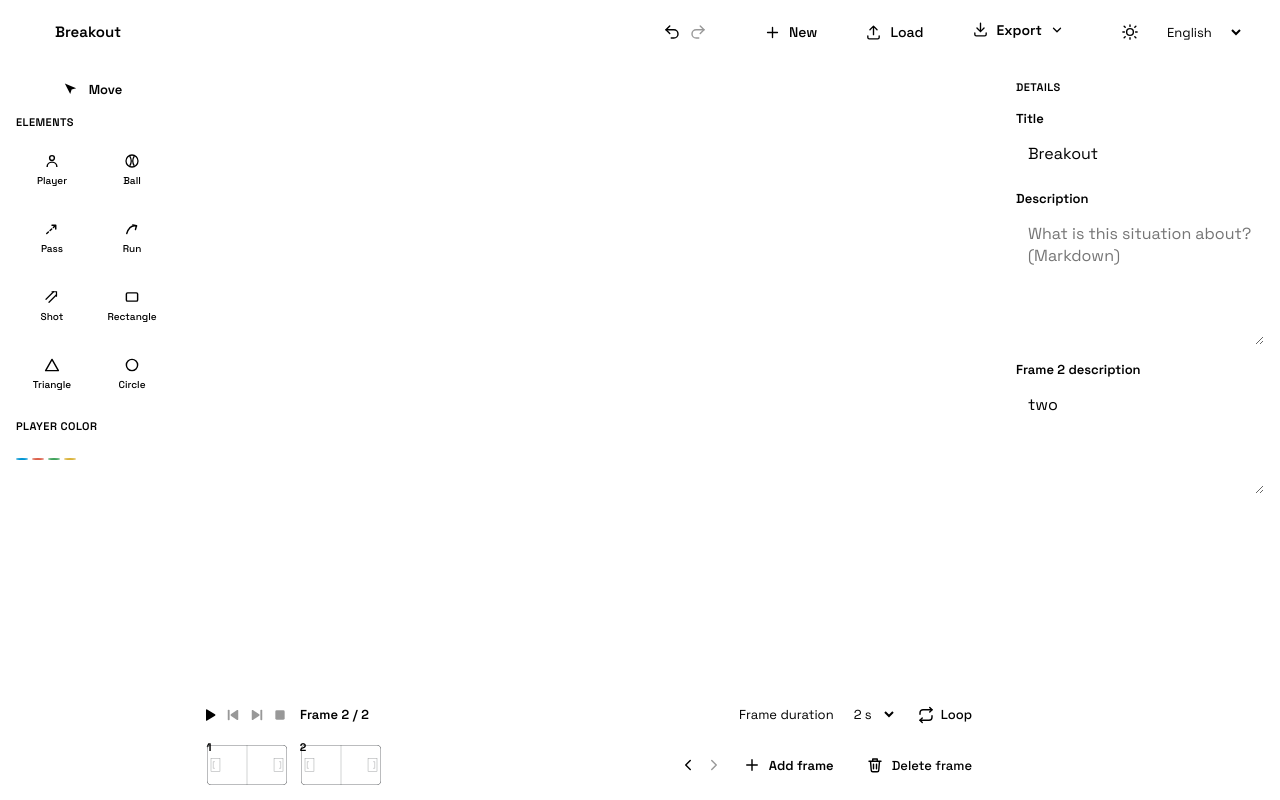
Test: editor page › details panel › the frame description follows the active frame
Click the button named "Frame 1". click: [247, 765]
box: [204, 742, 290, 788]
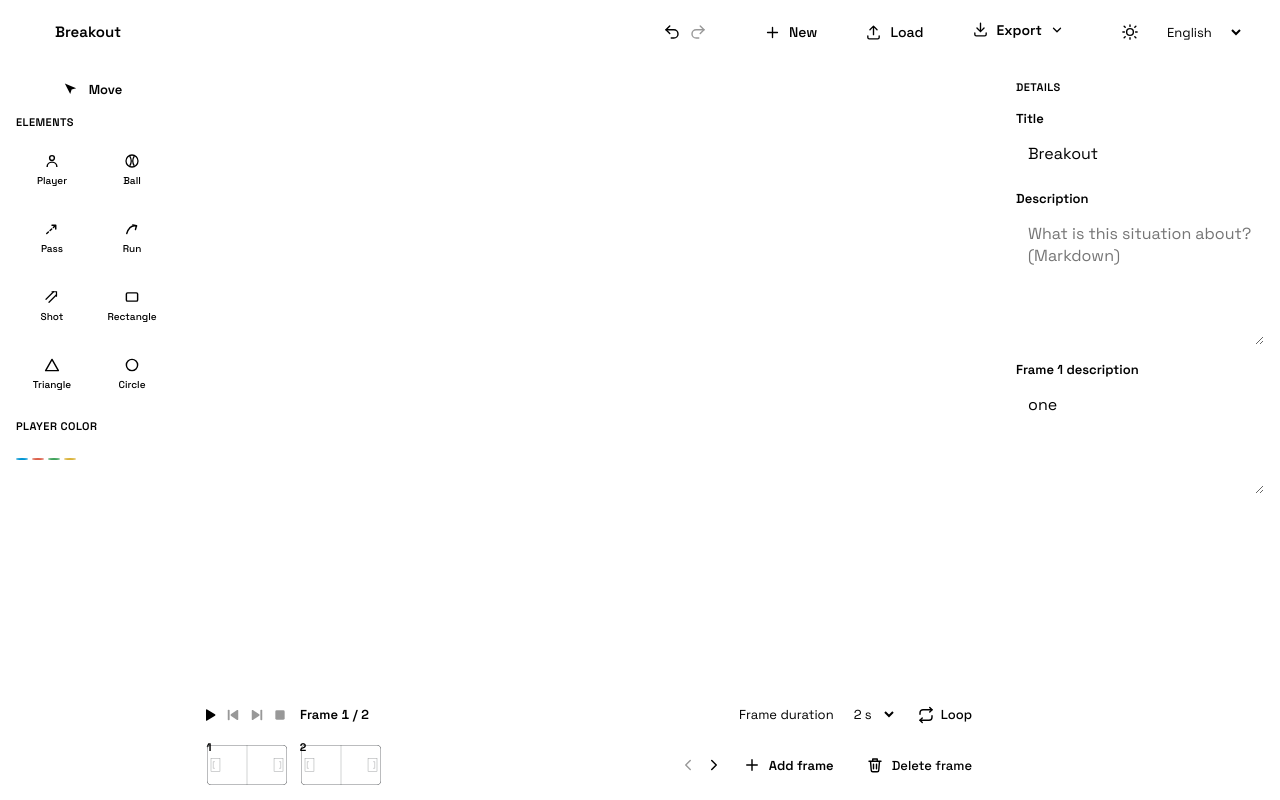
Check: the text box labelled "Frame 1 description" holds "one", box [1016, 384, 1264, 494]
